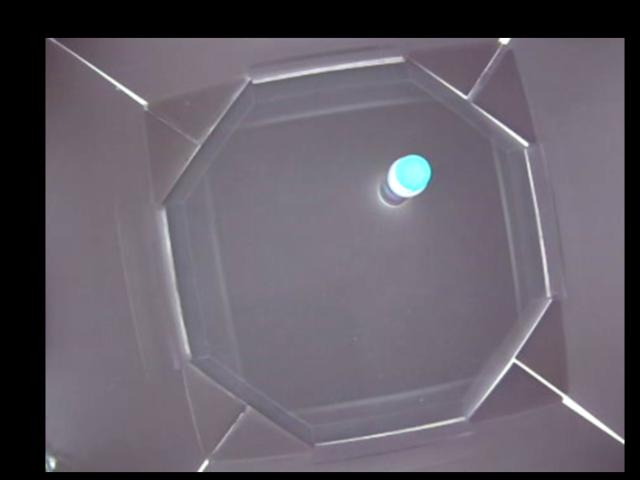Medicine: (375, 154, 431, 207)
